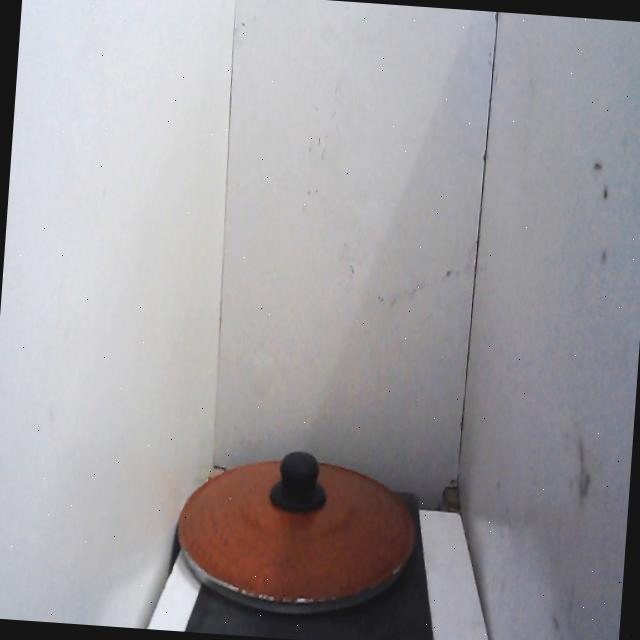metal: (167, 429, 429, 633)
